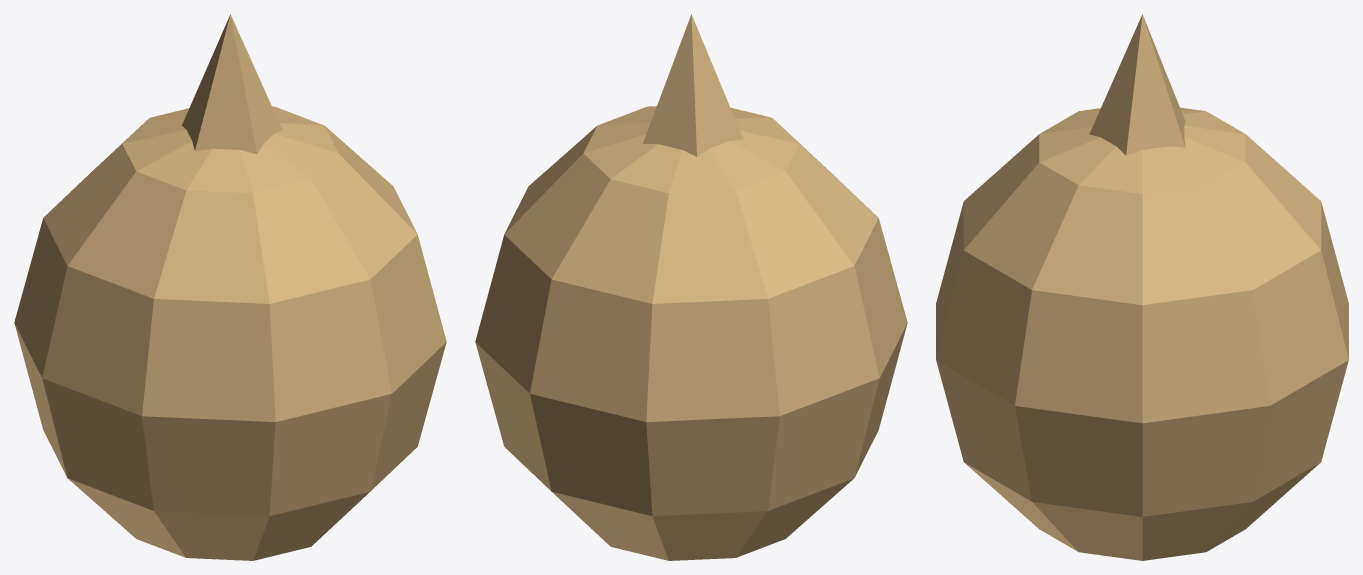
File: food_onion.glb
The picture shows the model from 3 angles, left to right: view 1: azimuth 30°, elevation 25°; view 2: azimuth 150°, elevation 25°; view 3: azimuth 270°, elevation 25°; orthographic projection.
Visible parts, largest first — view 1: onion_food_onion; view 2: onion_food_onion; view 3: onion_food_onion.
Part boxes in pixels (x1=…): onion_food_onion: x1=14, y1=14, x2=446, y2=560; onion_food_onion: x1=475, y1=14, x2=907, y2=560; onion_food_onion: x1=936, y1=14, x2=1348, y2=560.
Size of the model in its own units: 0.13 by 0.175 by 0.1236.
